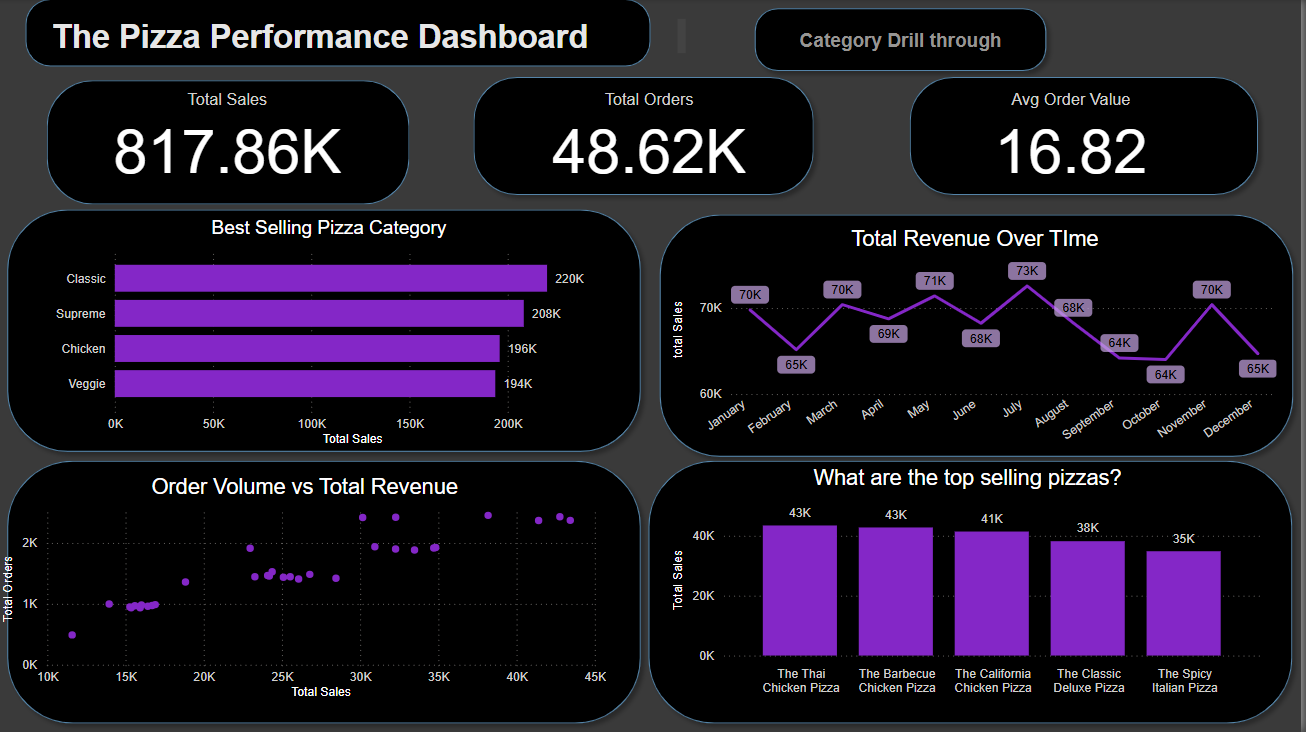

What the dashboard file says about the page in this screenshot:
{"tool":"powerbi","page":{"name":"Page 4","canvas":[1280,720],"ordinal":3},"visuals":[{"type":"shape","box":[0,198,640,256],"z":0,"group":"g1"},{"type":"group","id":"g1","title":"background 1","box":[0,0,1280,720],"z":500},{"type":"shape","box":[27,0,613.5,66.3],"z":1000,"group":"g1"},{"type":"cardVisual","fields":{"Data":["Sum(pizza_sales.total_price)","CountNonNull(pizza_sales.order_id)","pizza_sales.avg"]},"box":[17.2,61.4,1245.4,147.2],"z":1000},{"type":"shape","box":[48,80,356,122],"z":2000,"group":"g1"},{"type":"barChart","title":"Best Selling Pizza Category","fields":{"Y":["Sum(pizza_sales.total_price)"],"Category":["pizza_sales.pizza_category"]},"box":[48,214,554,230],"z":2000},{"type":"actionButton","title":"Category Drill Through","box":[733.7,14.7,304.3,52.8],"z":3000},{"type":"shape","box":[640,202,640,256],"z":3000,"group":"g1"},{"type":"lineChart","title":"Total Revenue Over TIme","fields":{"Category":["pizza_sales.order_date.Variation.Date Hierarchy.Year","pizza_sales.order_date.Variation.Date Hierarchy.Quarter","pizza_sales.order_date.Variation.Date Hierarchy.Month","pizza_sales.order_date.Variation.Date Hierarchy.Day"],"Y":["Sum(pizza_sales.total_price)"]},"box":[657.7,223.3,602.5,230.7],"z":4000},{"type":"shape","box":[0,444,640,276],"z":4000,"group":"g1"},{"type":"shape","box":[630,444,650,276],"z":5000,"group":"g1"},{"type":"scatterChart","title":"Order Volume vs  Total Revenue","fields":{"X":["Sum(pizza_sales.total_price)"],"Y":["Sum(pizza_sales.quantity)"],"Category":["pizza_sales.pizza_name"]},"box":[0,466,602,226],"z":5000},{"type":"shape","box":[458,68,352,134],"z":6000,"group":"g1"},{"type":"columnChart","title":"What are the top selling pizzas? ","fields":{"Category":["pizza_sales.pizza_name"],"Y":["Sum(pizza_sales.total_price)"]},"box":[658,458,588,234],"z":6000},{"type":"textbox","box":[47.9,14.7,631.9,51.5],"z":6500},{"type":"shape","box":[733.7,0,304.3,79.8],"z":7000,"group":"g1"},{"type":"shape","box":[886,68,360,134],"z":8000,"group":"g1"}]}

Visuals, with their boxes in screenshot pixels (x1, y1, x2, y2), scaled from the page's 1280x720 canvas onto the 1306x732 screenshot:
shape: 0 201 653 462
"background 1" group: 0 0 1305 731
shape: 28 0 654 67
cardVisual - Sum(pizza_sales.total_price) x CountNonNull(pizza_sales.order_id): 18 62 1288 212
shape: 49 81 412 205
"Best Selling Pizza Category" barChart: 49 218 614 451
"Category Drill Through" actionButton: 749 15 1059 69
shape: 653 205 1305 466
"Total Revenue Over TIme" lineChart: 671 227 1286 462
shape: 0 451 653 731
shape: 643 451 1305 731
"Order Volume vs  Total Revenue" scatterChart: 0 474 614 704
shape: 467 69 826 205
"What are the top selling pizzas? " columnChart: 671 466 1271 704
textbox: 49 15 694 67
shape: 749 0 1059 81
shape: 904 69 1271 205
